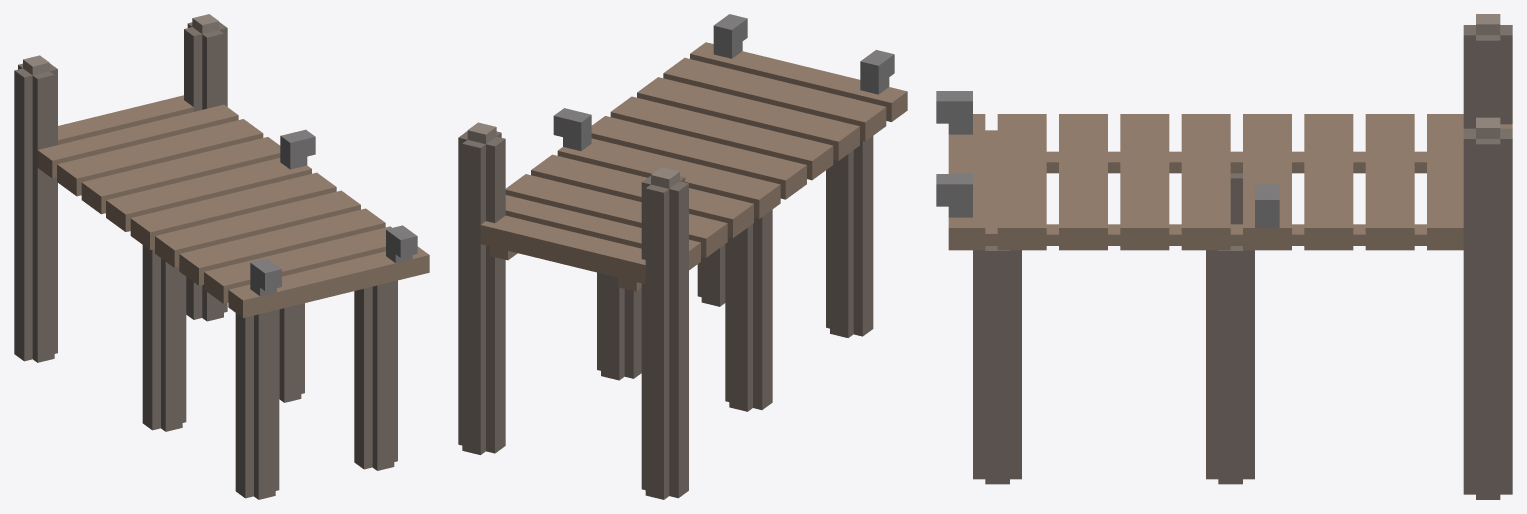
The model's file is Muelle.fbx.
3 views of the same model, side by side, from view 1: azimuth 30°, elevation 25°; view 2: azimuth 150°, elevation 25°; view 3: azimuth 270°, elevation 25° (orthographic). The views are drawn at different scales.
Parts seen in each view (by area): view 1: muelle_24x33x47; view 2: muelle_24x33x47; view 3: muelle_24x33x47.
Part boxes in pixels (left/top/right/bottom): muelle_24x33x47: left=14, top=14, right=429, bottom=499; muelle_24x33x47: left=458, top=14, right=907, bottom=499; muelle_24x33x47: left=936, top=14, right=1512, bottom=499.
Bounding box in the file's own units: 522 × 717 × 1022.
